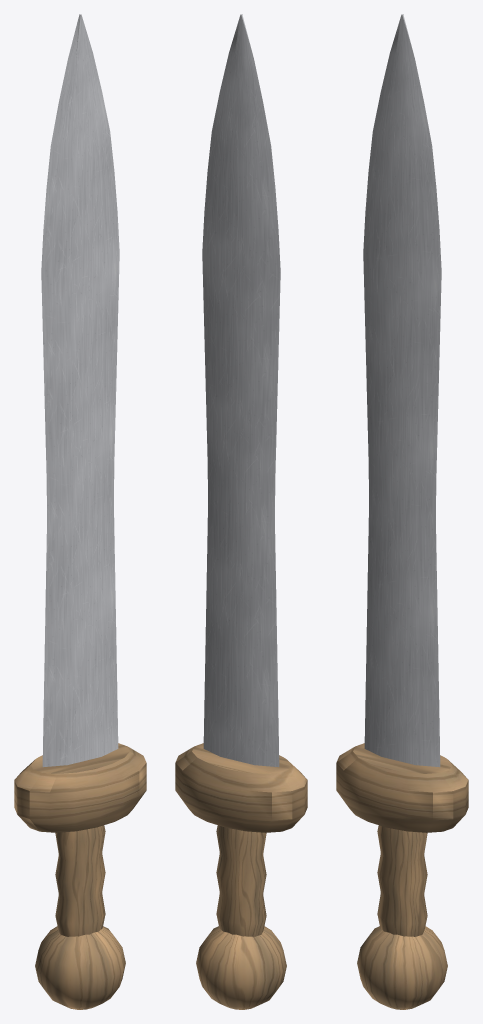
File: gladius.glb
3 views of the same model, side by side, from view 1: azimuth 30°, elevation 25°; view 2: azimuth 150°, elevation 25°; view 3: azimuth 330°, elevation 25° (orthographic).
Parts seen in each view (by area): view 1: OUT; view 2: OUT; view 3: OUT.
Part boxes in pixels (x1=…): OUT: x1=14, y1=14, x2=146, y2=1009; OUT: x1=175, y1=14, x2=307, y2=1009; OUT: x1=336, y1=14, x2=468, y2=1009.
Size of the model in its own units: 0.08 by 0.6 by 0.0487.
2 materials, 2 textured.
